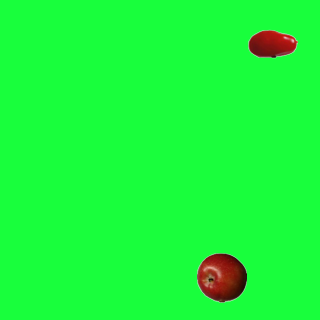Apple Braeburn: (196, 252, 246, 302)
Tomato 2: (247, 18, 297, 68)
